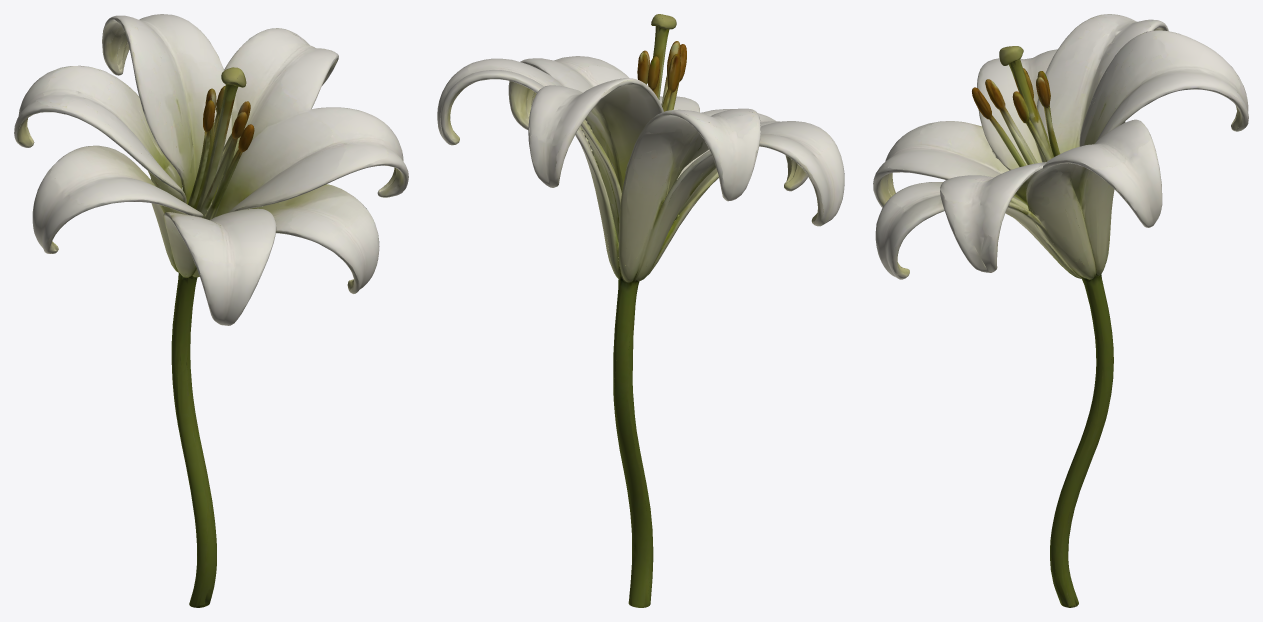
File: flower.glb
The picture shows the model from 3 angles, left to right: view 1: azimuth 30°, elevation 25°; view 2: azimuth 150°, elevation 25°; view 3: azimuth 270°, elevation 25°; orthographic projection. The views are drawn at different scales.
Visible parts, largest first — view 1: Flower; view 2: Flower; view 3: Flower.
Part boxes in pixels (x1,y1,x2,y2): Flower: (14,14,408,607); Flower: (437,14,844,607); Flower: (873,14,1248,607).
Bounding box in the file's own units: 0.7233 × 1.12 × 0.6829.
1 material, 1 textured.
